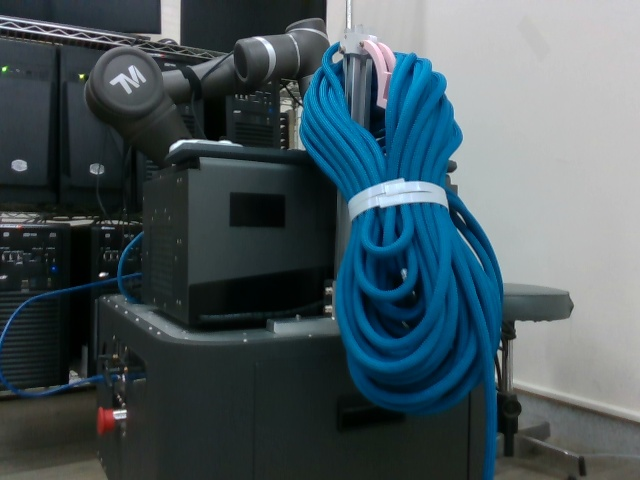rope: (301, 39, 508, 412)
